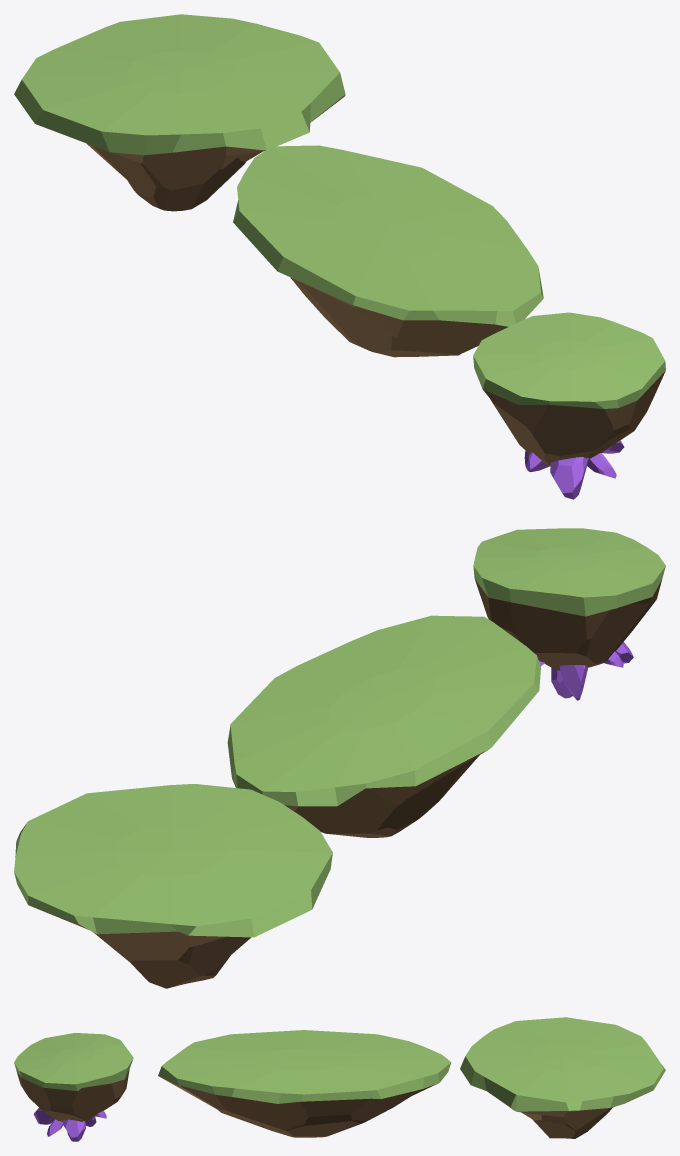
The model's file is IslandSet.fbx.
The picture shows the model from 3 angles, top to bottom: view 1: azimuth 30°, elevation 25°; view 2: azimuth 150°, elevation 25°; view 3: azimuth 270°, elevation 25°; orthographic projection. The views are drawn at different scales.
Parts seen in each view (by area): view 1: Island_01, Island_03, Island_00, Crystal_00; view 2: Island_01, Island_03, Island_00, Crystal_00; view 3: Island_01, Island_03, Island_00, Crystal_00.
Boxes of the visible parts, x1,y1,x2,y2 form: Island_01: (233,145,543,357); Island_03: (14,14,345,211); Island_00: (473,312,665,466); Crystal_00: (524,440,624,499); Island_01: (227,615,540,837); Island_03: (14,784,332,988); Island_00: (473,528,665,670); Crystal_00: (539,642,633,700); Island_01: (158,1030,451,1137); Island_03: (460,1017,665,1138); Island_00: (14,1033,133,1121); Crystal_00: (33,1108,106,1141).
Bounding box in the file's own units: 2643 × 1193 × 8237.
